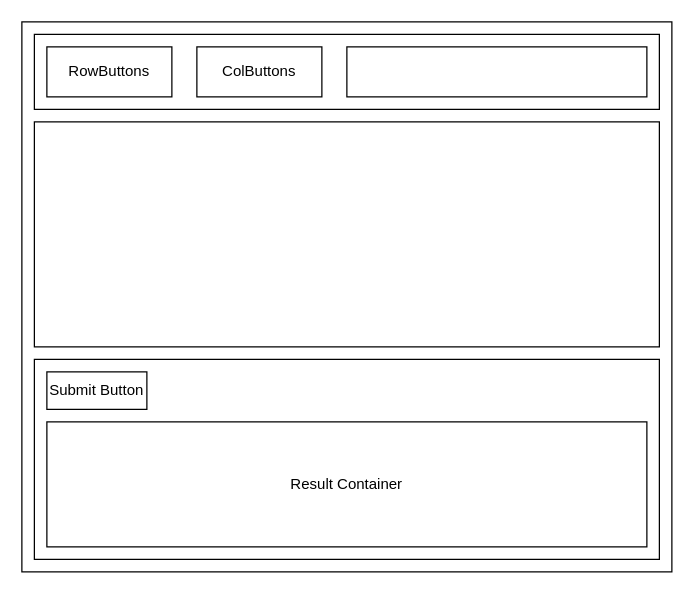
The diagram is 694 pixels wide and 594 high, and some of its shapes have lost their labels. Here are the shapes that lost their labels. From the top down, the centre of each, then its label:
(496,71): FileUpload
(346,234): Decision Matrix Data Inputs
